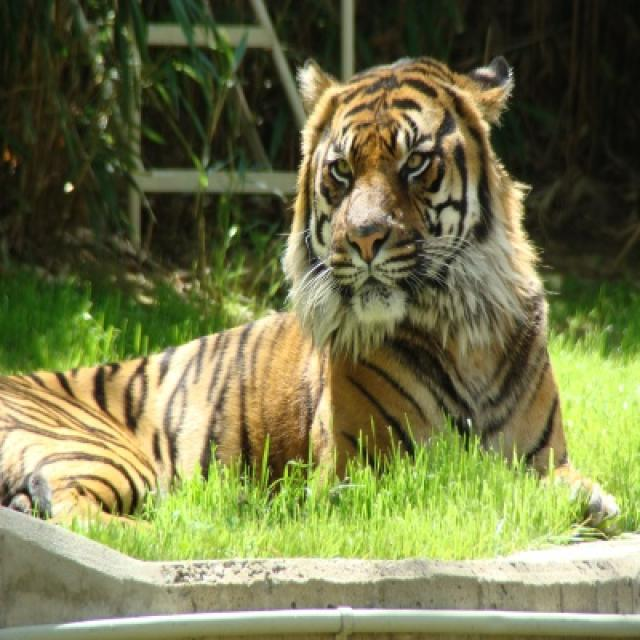Tiger: (0, 49, 565, 559)
